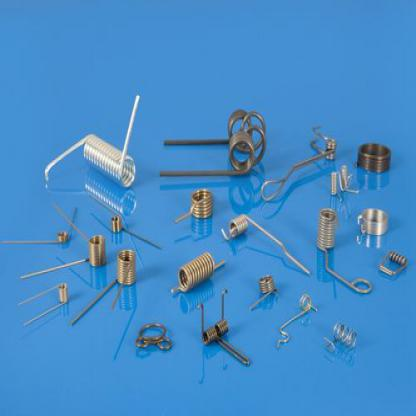FOD: (42, 93, 143, 186), (260, 121, 337, 202), (220, 212, 312, 278), (68, 247, 138, 329), (158, 129, 268, 181), (316, 206, 374, 296), (162, 108, 266, 152), (196, 287, 252, 368), (274, 291, 320, 351), (169, 252, 227, 298), (19, 280, 68, 330), (172, 186, 213, 229), (321, 318, 359, 356), (134, 319, 174, 354), (353, 140, 392, 175), (248, 272, 279, 314), (379, 246, 409, 278), (356, 207, 389, 236)
